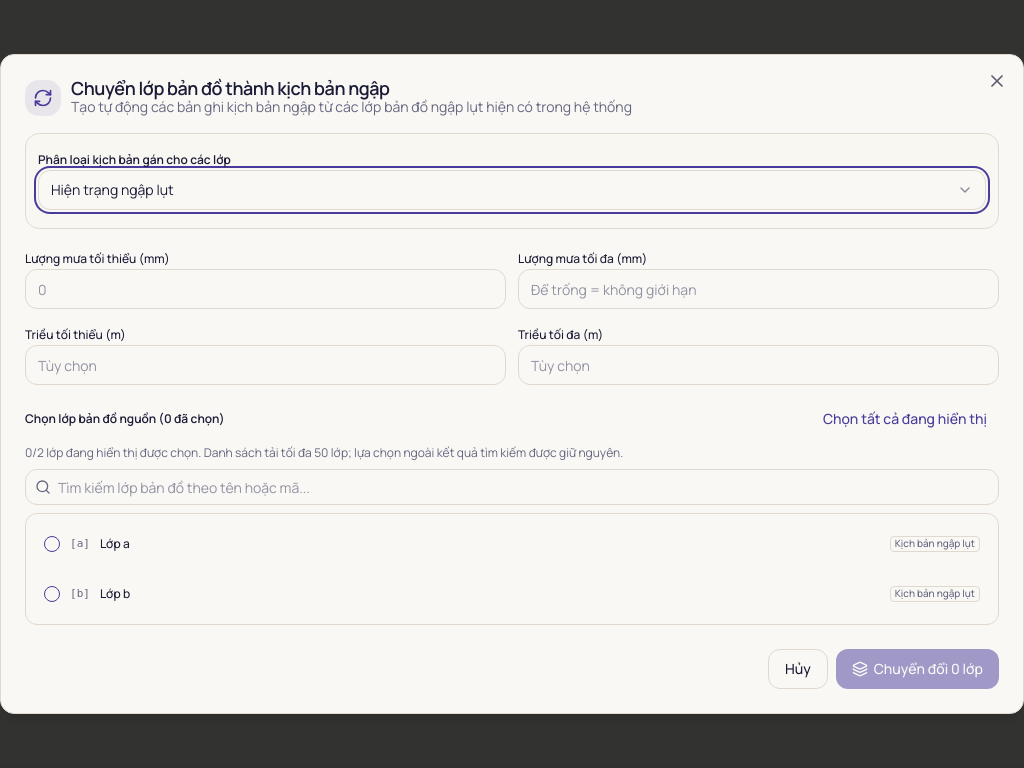
Test: KttvConvertFromLayersDialog selection › selects and clears displayed layers without a checkbox update loop
Click the button "Chọn tất cả đang hiển thị".
click(905, 419)  # box 811,401 -> 999,437
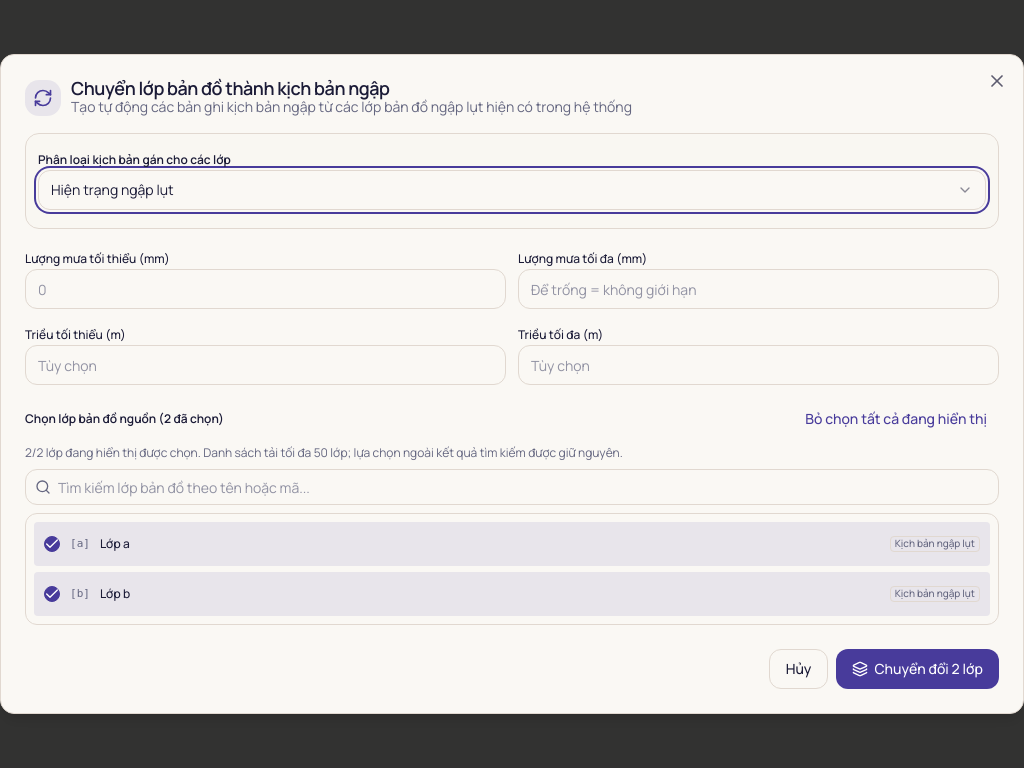
Expected: the checkbox in the row of "Lớp a" is checked, 44,536 -> 60,552
Expected: the 2nd checkbox is checked, 44,586 -> 60,602
Expected: the button "Chuyển đổi 2 lớp" is enabled, 836,649 -> 999,689
Click the button "Bỏ chọn tất cả đang hiển thị".
click(896, 419)  # box 793,401 -> 999,437
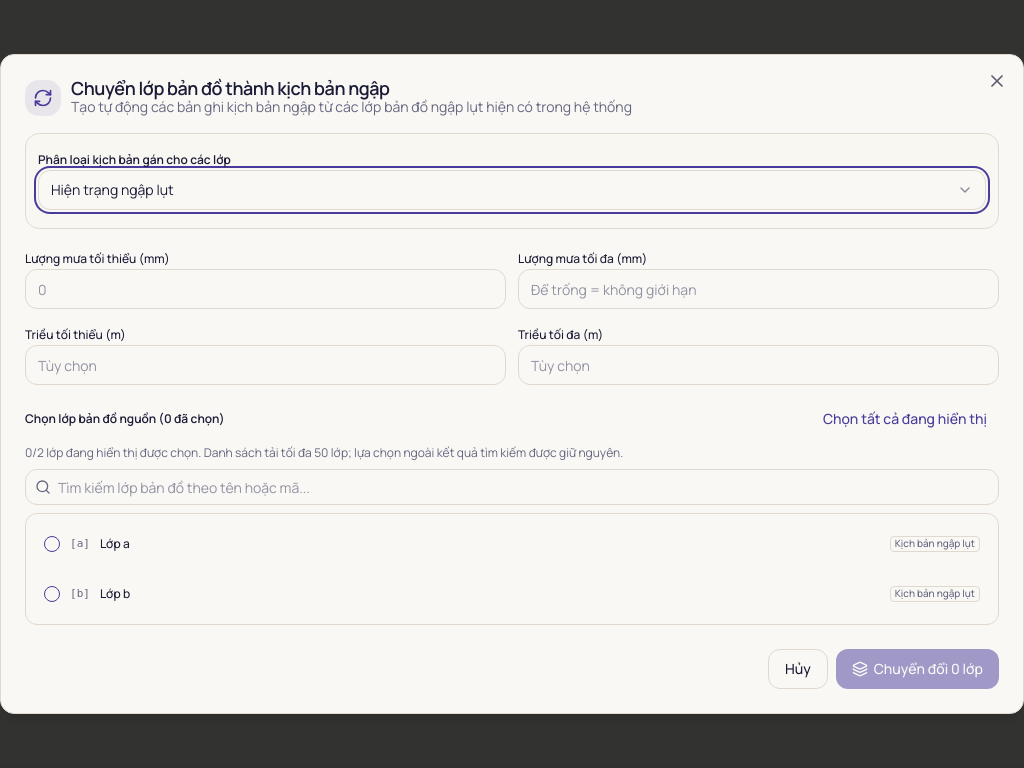
Expected: the checkbox in the row of "Lớp a" is not checked, 44,536 -> 60,552
Expected: the 2nd checkbox is not checked, 44,586 -> 60,602
Expected: the button "Chuyển đổi 0 lớp" is disabled, 836,649 -> 999,689
